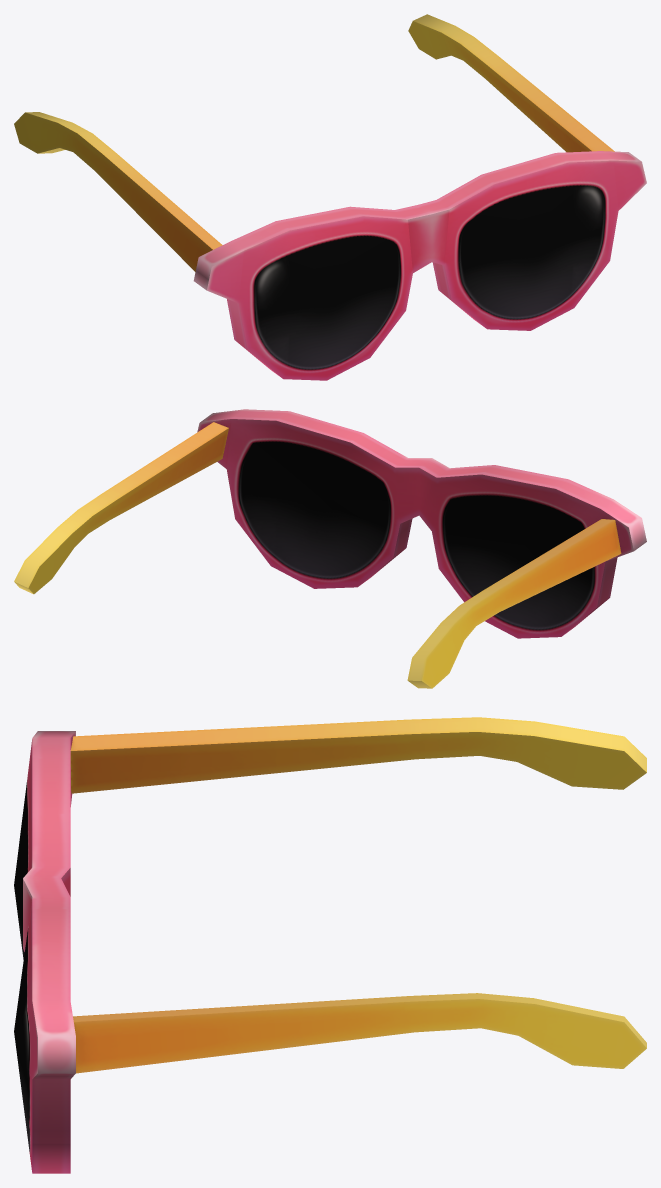
Rendered from SE_Sunglasses_01.fbx.
3 views of the same model, one above another, from view 1: azimuth 30°, elevation 25°; view 2: azimuth 150°, elevation 25°; view 3: azimuth 270°, elevation 25° (orthographic). The views are drawn at different scales.
Parts seen in each view (by area): view 1: SE_Sunglasses_01; view 2: SE_Sunglasses_01; view 3: SE_Sunglasses_01.
Part boxes in pixels (<box>): SE_Sunglasses_01: <box>14,14,646,380</box>; SE_Sunglasses_01: <box>14,409,646,688</box>; SE_Sunglasses_01: <box>14,717,646,1173</box>.
Bounding box in the file's own units: 1.59 × 0.549 × 1.36.
